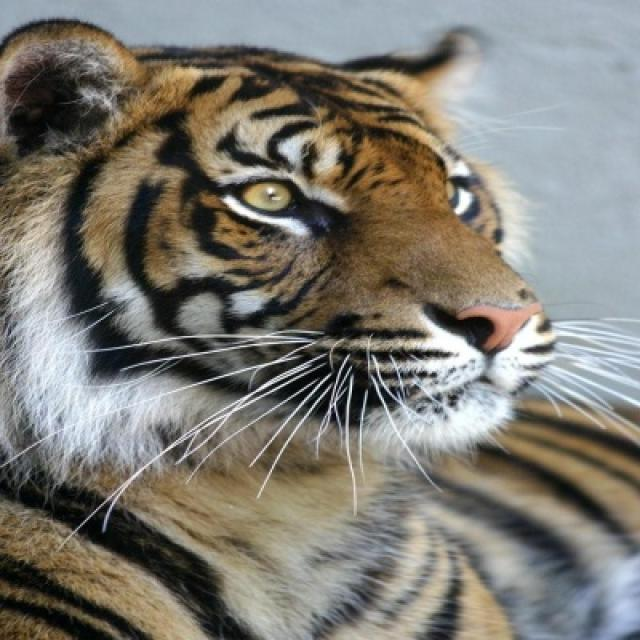Tiger: (0, 19, 638, 638)
